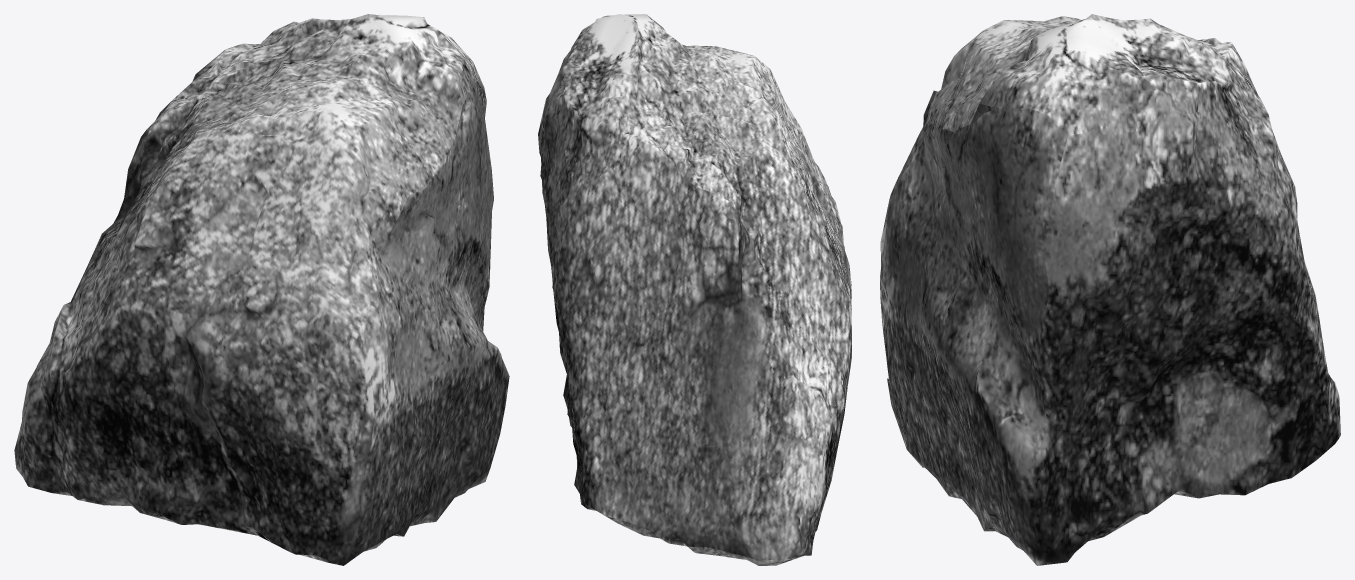
Rendered from rock2.glb.
3 views of the same model, side by side, from view 1: azimuth 30°, elevation 25°; view 2: azimuth 150°, elevation 25°; view 3: azimuth 270°, elevation 25° (orthographic). The views are drawn at different scales.
Parts seen in each view (by area): view 1: boulder_04; view 2: boulder_04; view 3: boulder_04.
Part boxes in pixels (x1,y1,x2,y2): boulder_04: (14, 14, 509, 565); boulder_04: (538, 14, 851, 565); boulder_04: (880, 14, 1340, 565).
Size of the model in its own units: 1.6 by 1.92 by 1.58.
1 material, 1 textured.
